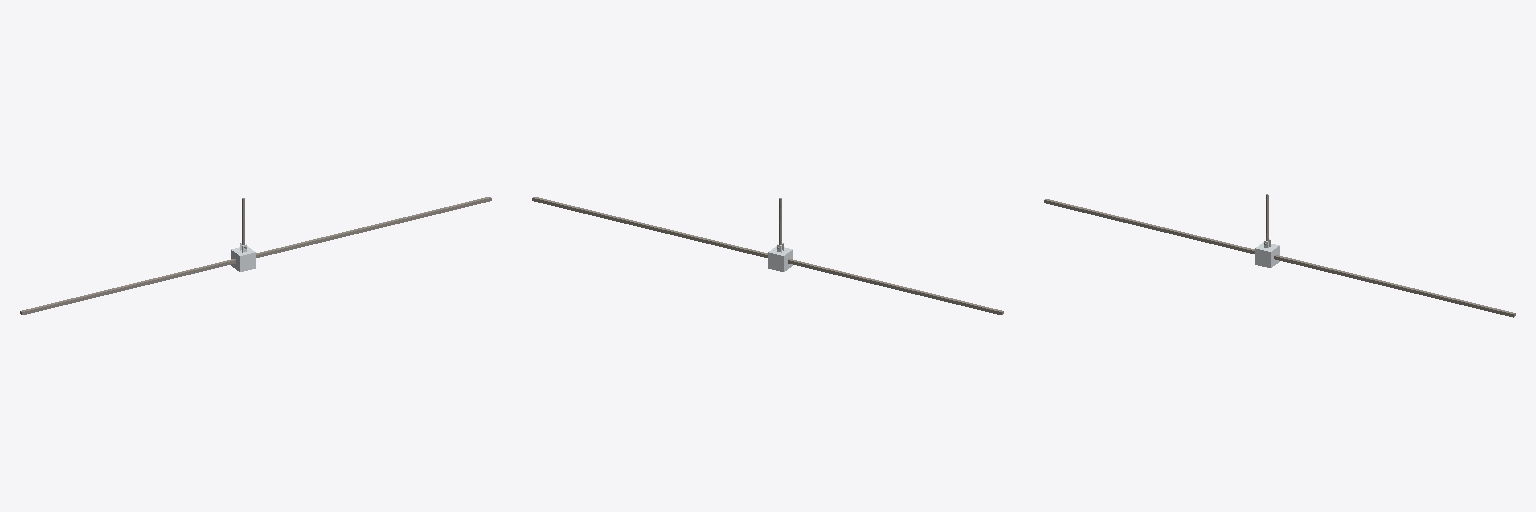
robot.urdf — invertedPendulum:
<?xml version="1.0" encoding="utf-8"?>
<!-- This URDF was automatically created by SolidWorks to URDF Exporter! Originally created by Stephen Brawner ([email redacted]) 
     Commit Version: 1.6.0-4-g7f85cfe  Build Version: 1.6.7995.38578
     For more information, please see http://wiki.ros.org/sw_urdf_exporter -->
<robot
  name="invertedPendulum">

  <link name="world"/>

  <joint name="world_to_rail" type="fixed">
    <parent link="world"/>
    <child link="rail"/>
    <origin xyz="0 0 1.5" rpy="0 0 0"/>
  </joint>

  <link
    name="rail">
    <inertial>
      <origin
        xyz="0 2.6021E-18 -8.0954E-18"
        rpy="0 0 0" />
      <mass
        value="1185" />
      <inertia
        ixx="1.975"
        ixy="8.1883E-15"
        ixz="4.0808E-12"
        iyy="22220"
        iyz="5.7101E-17"
        izz="22220" />
    </inertial>
    <visual>
      <origin
        xyz="0 0 0"
        rpy="0 0 0" />
      <geometry>
        <mesh
          filename="package://invertedPendulum/meshes/rail.STL" />
      </geometry>
      <material
        name="">
        <color
          rgba="0.64706 0.61961 0.58824 1" />
      </material>
    </visual>
    <collision>
      <origin
        xyz="0 0 0"
        rpy="0 0 0" />
      <geometry>
        <mesh
          filename="package://invertedPendulum/meshes/rail.STL" />
      </geometry>
    </collision>
  </link>
  <link
    name="cart">
    <inertial>
      <origin
        xyz="-0.25 0.0046357 1.3321E-17"
        rpy="0 0 0" />
      <mass
        value="328.4" />
      <inertia
        ixx="14.594"
        ixy="3.1752E-16"
        ixz="-4.9616E-16"
        iyy="13.798"
        iyz="1.7612E-16"
        izz="14.314" />
    </inertial>
    <visual>
      <origin
        xyz="0 0 0"
        rpy="0 0 0" />
      <geometry>
        <mesh
          filename="package://invertedPendulum/meshes/cart.STL" />
      </geometry>
      <material
        name="">
        <color
          rgba="0.89804 0.91765 0.92941 1" />
      </material>
    </visual>
    <collision>
      <origin
        xyz="0 0 0"
        rpy="0 0 0" />
      <geometry>
        <mesh
          filename="package://invertedPendulum/meshes/cart.STL" />
      </geometry>
    </collision>
  </link>
  <joint
    name="rail_to_cart"
    type="prismatic">
    <origin
      xyz="-0.15237 0 0"
      rpy="1.5708 0 0" />
    <parent
      link="rail" />
    <child
      link="cart" />
    <axis
      xyz="1 0 0" />
    <limit
      lower="-10"
      upper="10"
      effort="0"
      velocity="0" />
    <dynamics
      friction="5.0"/>
  </joint>
  <link
    name="pole">
    <inertial>
      <origin
        xyz="0.64529 -3.0777E-07 3.4374E-06"
        rpy="0 0 0" />
      <mass
        value="64.615" />
      <inertia
        ixx="0.09831"
        ixy="-9.7663E-06"
        ixz="-2.3047E-05"
        iyy="13.524"
        iyz="-2.2096E-06"
        izz="13.476" />
    </inertial>
    <visual>
      <origin
        xyz="0 0 0"
        rpy="0 0 0" />
      <geometry>
        <mesh
          filename="package://invertedPendulum/meshes/pole.STL" />
      </geometry>
      <material
        name="">
        <color
          rgba="0.64706 0.61961 0.58824 1" />
      </material>
    </visual>
    <collision>
      <origin
        xyz="0 0 0"
        rpy="0 0 0" />
      <geometry>
        <mesh
          filename="package://invertedPendulum/meshes/pole.STL" />
      </geometry>
    </collision>
  </link>
  <joint
    name="cart_to_pole"
    type="continuous">
    <origin
      xyz="-0.25 0.39 0"
      rpy="0 0 1.5708" />
    <parent
      link="cart" />
    <child
      link="pole" />
    <axis
      xyz="0 0 1" />
    <limit
      lower="0"
      upper="0"
      effort="0"
      velocity="0" />
    <dynamics
      damping="1.0"/>
  </joint>
</robot>

--- What the picture shows (computed from the rendered views, not written in the file) ---
3 views of the same robot in one strip: view 1: azimuth 30°, elevation 25°; view 2: azimuth 150°, elevation 25°; view 3: azimuth 330°, elevation 25° (orthographic).
Model invertedPendulum with 4 links and 3 joints (1 continuous, 1 prismatic, 1 fixed), rooted at world, posed every joint at zero.
Links seen in each view (by area): view 1: rail, cart; view 2: rail, cart; view 3: rail, cart.
Boxes of the visible links, x1,y1,x2,y2 form: rail: (20, 197, 491, 314); cart: (231, 243, 255, 271); rail: (532, 197, 1003, 314); cart: (768, 243, 792, 271); rail: (1044, 199, 1515, 317); cart: (1255, 239, 1279, 267).
Bounding box of the posed robot: 15 × 0.5 × 2.09 m (x, y, z).
Meshes: 3 distinct files referenced, 3 mesh visuals loaded (3 binary STL).
